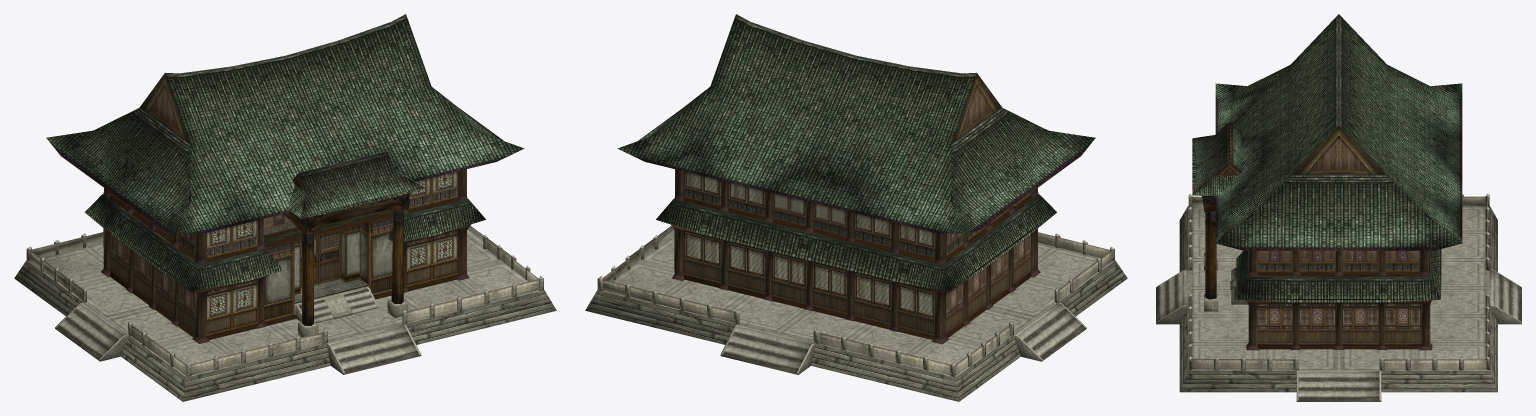
The model's file is c1-010-bank_lod_01.fbx.
3 renders of one model, left to right at view 1: azimuth 30°, elevation 25°; view 2: azimuth 150°, elevation 25°; view 3: azimuth 270°, elevation 25°, orthographic. The views are drawn at different scales.
Parts seen in each view (by area): view 1: c1-010-bank-01, c1-010-bank-03, c1-010-bank-02, c1-010-bank-04; view 2: c1-010-bank-01, c1-010-bank-03, c1-010-bank-02, c1-010-bank-04; view 3: c1-010-bank-01, c1-010-bank-03, c1-010-bank-02, c1-010-bank-04.
Boxes of the visible parts, x1=… form: c1-010-bank-01: x1=46, y1=14, x2=524, y2=343; c1-010-bank-03: x1=14, y1=151, x2=556, y2=401; c1-010-bank-02: x1=26, y1=171, x2=543, y2=376; c1-010-bank-04: x1=84, y1=189, x2=485, y2=321; c1-010-bank-01: x1=617, y1=14, x2=1095, y2=344; c1-010-bank-03: x1=585, y1=195, x2=1127, y2=401; c1-010-bank-02: x1=597, y1=171, x2=1114, y2=377; c1-010-bank-04: x1=656, y1=194, x2=1056, y2=291; c1-010-bank-01: x1=1189, y1=14, x2=1462, y2=370; c1-010-bank-03: x1=1156, y1=121, x2=1521, y2=401; c1-010-bank-02: x1=1188, y1=193, x2=1489, y2=370; c1-010-bank-04: x1=1192, y1=139, x2=1441, y2=302.
Size of the model in its own units: 24.99 by 14.43 by 20.19.
